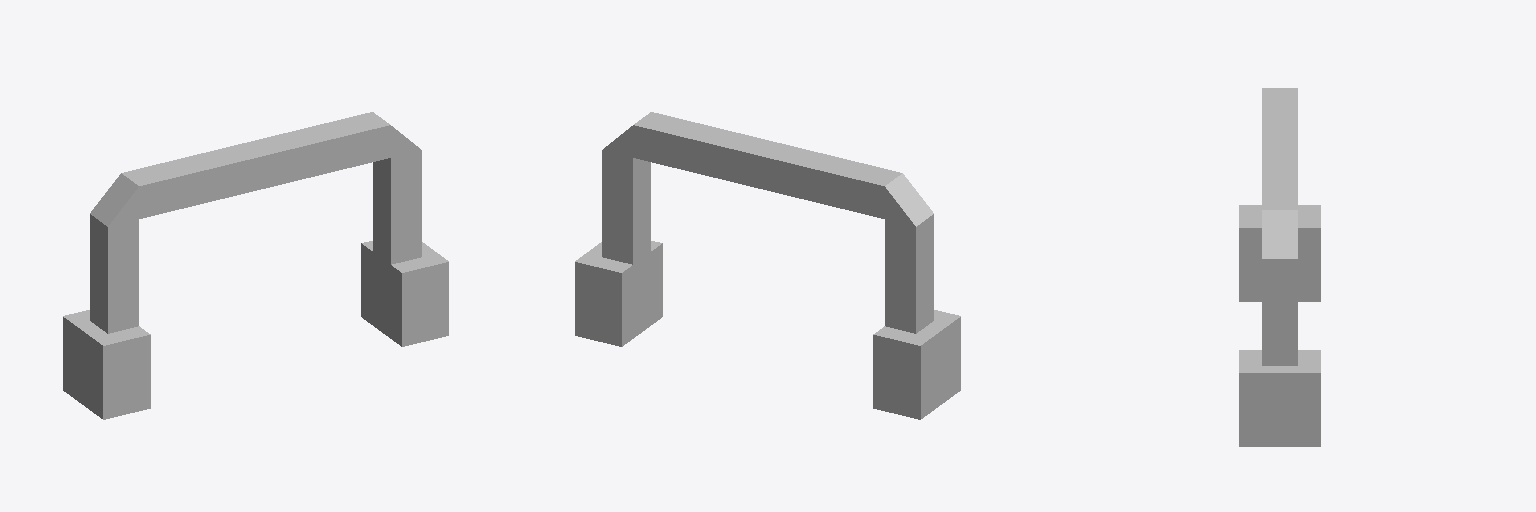
File: va_headphones.obj
The picture shows the model from 3 angles: view 1: azimuth 30°, elevation 25°; view 2: azimuth 150°, elevation 25°; view 3: azimuth 270°, elevation 25°; orthographic projection.
Visible parts, largest first — view 1: middle, rightear, leftear, leftstalk, rightstalk, rightside, leftside; view 2: middle, rightear, leftear, leftstalk, rightstalk, rightside, leftside; view 3: leftear, rightear, middle, leftstalk, leftside.
Boxes of the visible parts, x1,y1,x2,y2 form: middle: [122, 112, 390, 218]; rightear: [63, 310, 150, 419]; leftear: [361, 241, 448, 346]; leftstalk: [373, 170, 421, 264]; rightstalk: [90, 239, 138, 333]; rightside: [90, 173, 138, 250]; leftside: [373, 126, 421, 181]; middle: [633, 112, 901, 218]; rightear: [873, 310, 960, 419]; leftear: [575, 241, 662, 346]; leftstalk: [602, 170, 650, 264]; rightstalk: [885, 239, 933, 333]; rightside: [885, 173, 933, 250]; leftside: [602, 126, 650, 181]; leftear: [1239, 350, 1320, 446]; rightear: [1239, 205, 1320, 301]; middle: [1262, 88, 1297, 209]; leftstalk: [1262, 283, 1297, 365]; leftside: [1262, 210, 1297, 282].
Bounding box in the file's own units: 1.38 × 0.8125 × 0.2812.